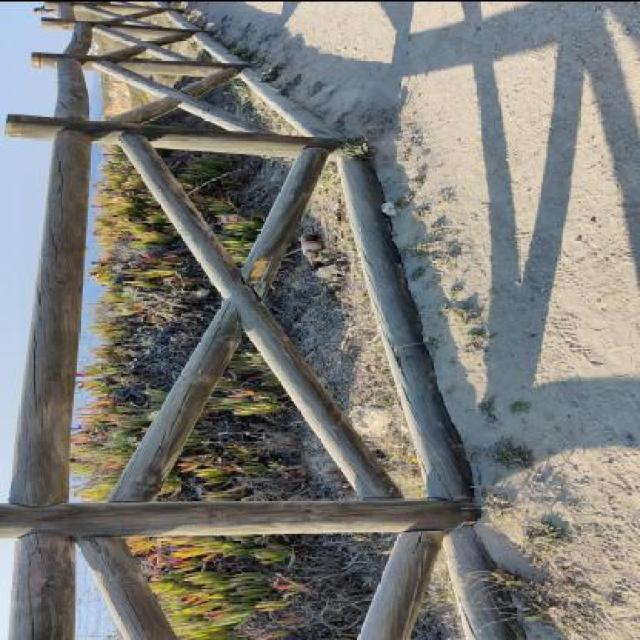glass: (299, 233, 323, 267)
plastic: (314, 265, 346, 277)
